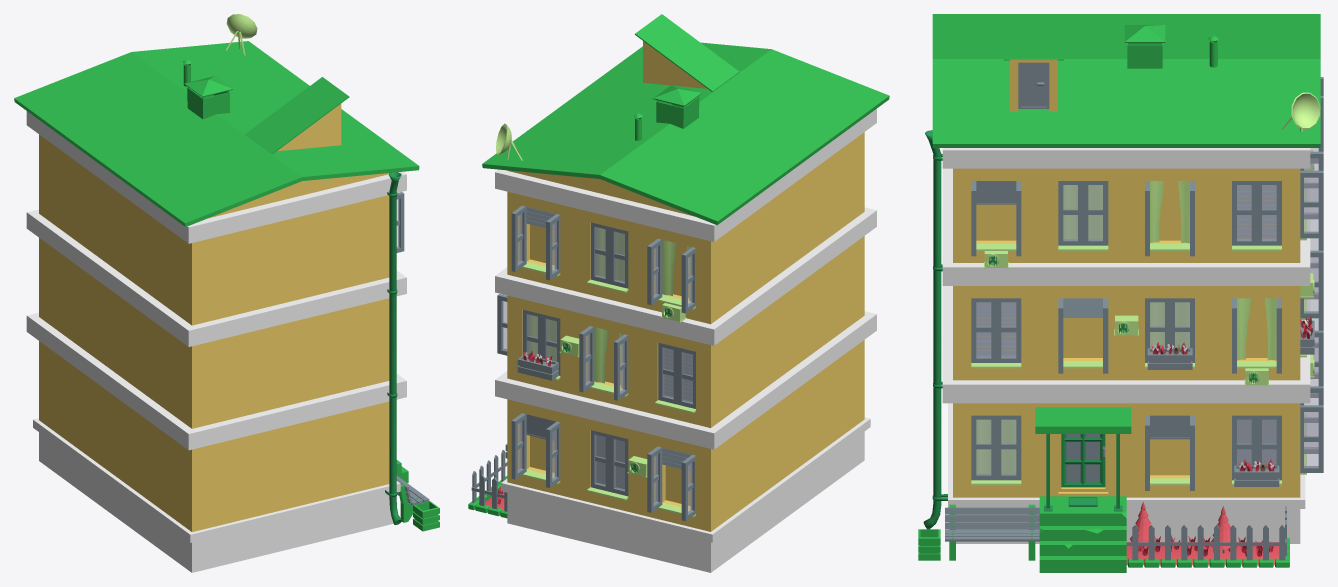
The model's file is House2.fbx.
The picture shows the model from 3 angles, left to right: view 1: azimuth 30°, elevation 25°; view 2: azimuth 150°, elevation 25°; view 3: azimuth 270°, elevation 25°; orthographic projection. The views are drawn at different scales.
Parts seen in each view (by area): view 1: House, RoofAccess, DrainPipe, Chimney, Bench, TrashCan, Antenna, WindowOpenRollerBlinds.001; view 2: House, RoofAccess, WindowOpenCurtains.003, WindowOpenCurtains.002, WindowOpenRollerBlinds.002, WindowClosedCurtains.003, WindowClosedRollerBlinds.001, WindowOpenJalousie.001, WindowOpenJalousie.002, WindowClosedJalousie.002, WindowClosedCurtains.004, Chimney (+2 smaller); view 3: House, Entrance, Bench, WindowClosedJalousie, WindowClosedCurtains.001, DrainPipe, WindowClosedCurtains.002, WindowClosedJalousie.001, WindowClosedRollerBlinds, WindowClosedCurtains, RoofAccess, Door (+17 smaller).
Boxes of the visible parts, box(x1,y1,x2,y2) form: House: box(14, 41, 419, 572); RoofAccess: box(245, 77, 349, 153); DrainPipe: box(385, 172, 401, 524); Chimney: box(184, 76, 232, 119); Bench: box(396, 475, 429, 522); TrashCan: box(413, 501, 439, 531); Antenna: box(226, 14, 257, 55); WindowOpenRollerBlinds.001: box(396, 192, 404, 252); House: box(482, 42, 889, 572); RoofAccess: box(635, 14, 739, 91); WindowOpenCurtains.003: box(579, 326, 628, 400); WindowOpenCurtains.002: box(647, 239, 695, 313); WindowOpenRollerBlinds.002: box(511, 413, 560, 487); WindowClosedCurtains.003: box(587, 222, 628, 292); WindowClosedRollerBlinds.001: box(587, 430, 628, 500); WindowOpenJalousie.001: box(511, 205, 560, 280); WindowOpenJalousie.002: box(647, 446, 695, 521); WindowClosedJalousie.002: box(654, 342, 695, 413); WindowClosedCurtains.004: box(522, 309, 560, 380); Chimney: box(653, 85, 701, 128); House: box(932, 14, 1320, 543); Entrance: box(1035, 407, 1131, 572); Bench: box(945, 504, 1039, 560); WindowClosedJalousie: box(971, 298, 1021, 368); WindowClosedCurtains.001: box(971, 415, 1021, 485); DrainPipe: box(923, 130, 947, 529); WindowClosedCurtains.002: box(1058, 181, 1108, 250); WindowClosedJalousie.001: box(1232, 181, 1281, 250); WindowClosedRollerBlinds: box(1232, 415, 1281, 485); WindowClosedCurtains: box(1145, 298, 1194, 368); RoofAccess: box(1003, 58, 1063, 111); Door: box(1061, 434, 1105, 487).
Bounding box in the file's own units: 1739 × 2555 × 1985.
